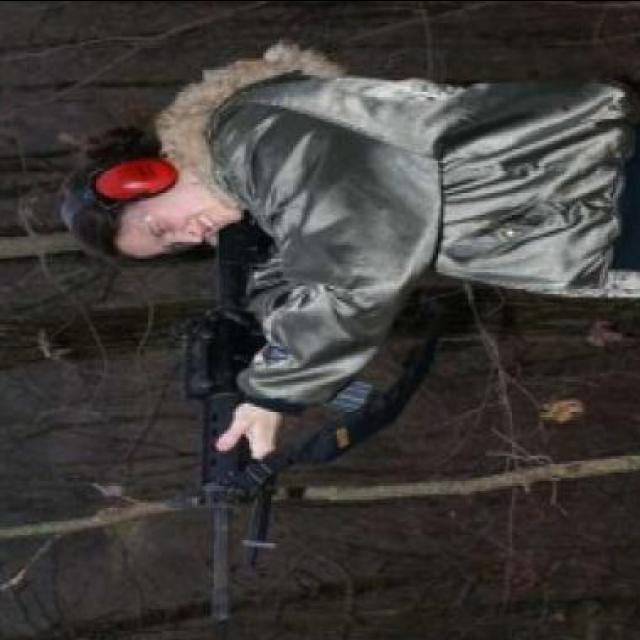Rifle: (184, 221, 276, 617)
